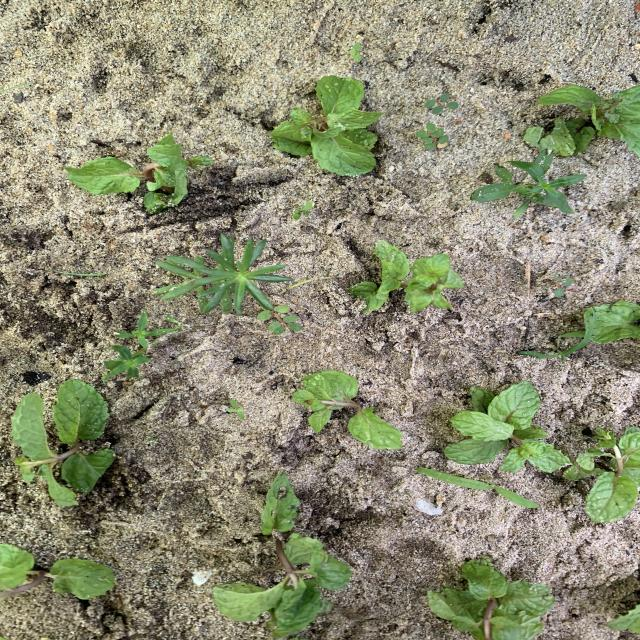crop: (213, 472, 351, 636), (12, 380, 114, 505), (270, 77, 382, 175), (66, 132, 202, 211), (446, 382, 565, 471), (429, 557, 553, 639), (293, 371, 402, 448), (350, 242, 463, 311), (563, 428, 639, 521), (1, 546, 115, 601), (580, 302, 639, 343), (607, 605, 639, 631)
weed: (155, 234, 309, 315), (523, 85, 640, 157), (472, 152, 584, 215), (416, 467, 539, 508), (520, 326, 597, 362), (115, 312, 170, 349), (104, 346, 151, 378), (257, 305, 303, 335), (416, 123, 448, 149), (424, 94, 458, 114), (553, 274, 577, 295), (293, 200, 313, 219), (227, 399, 244, 419), (350, 42, 361, 60), (59, 273, 106, 277)
